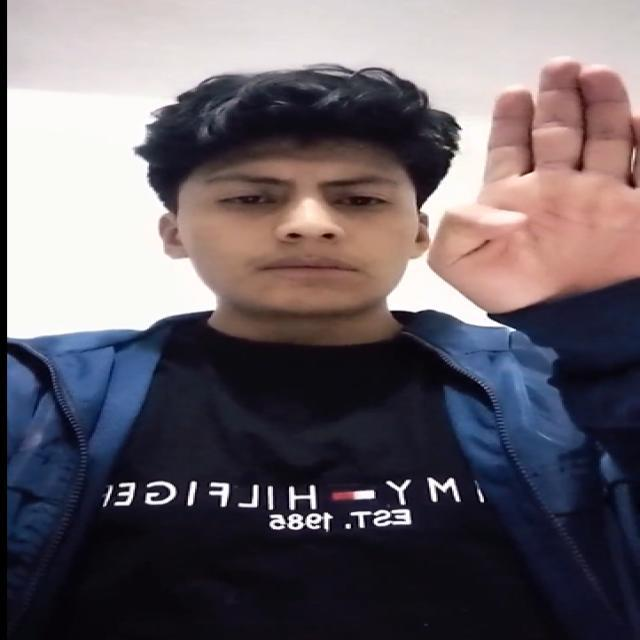B: (448, 23, 640, 315)
